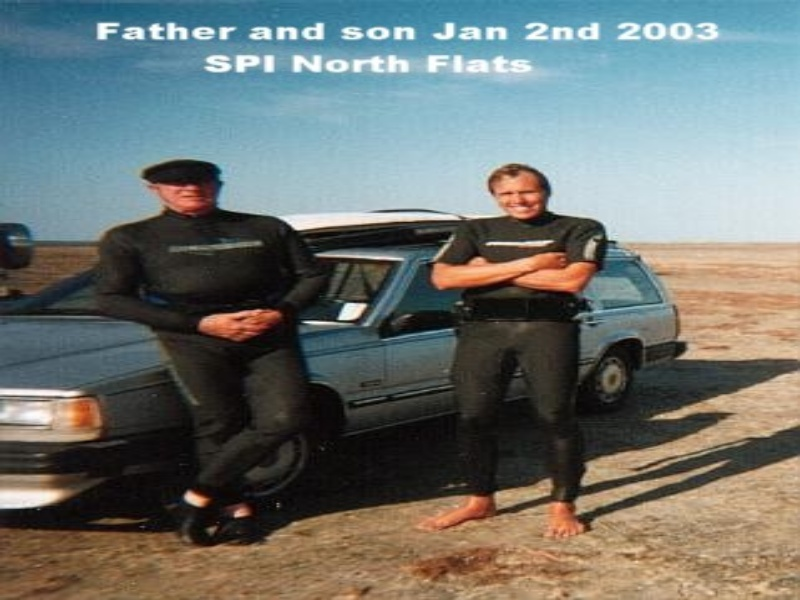car: (1, 211, 688, 528)
person: (95, 159, 328, 543), (429, 164, 606, 535)
